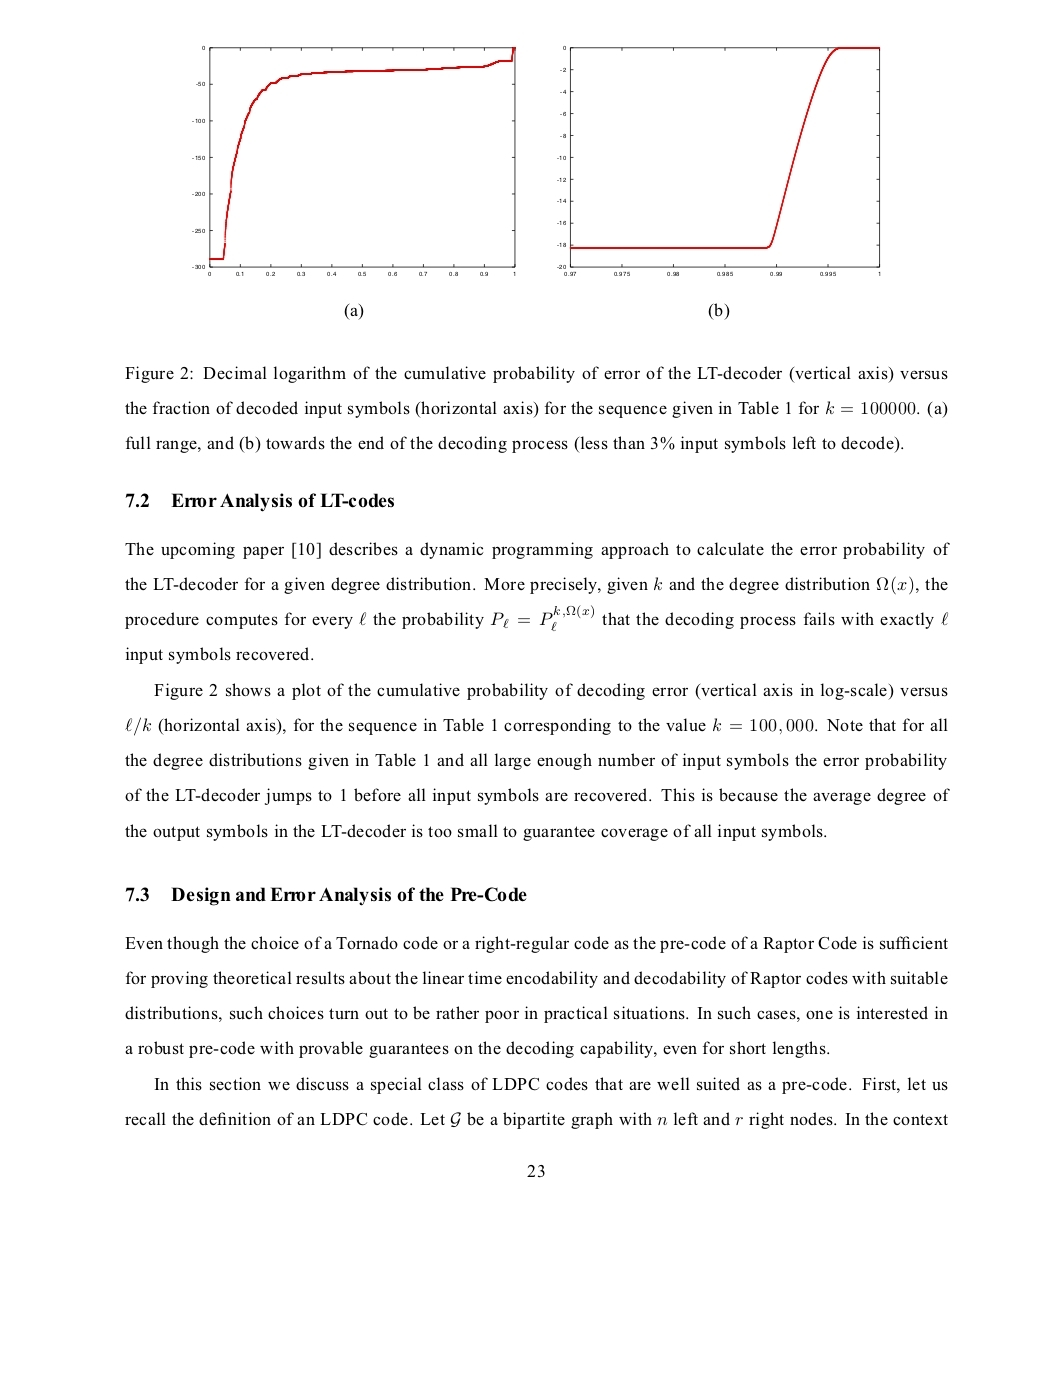figure: (192, 43, 515, 276), (557, 43, 880, 276)
